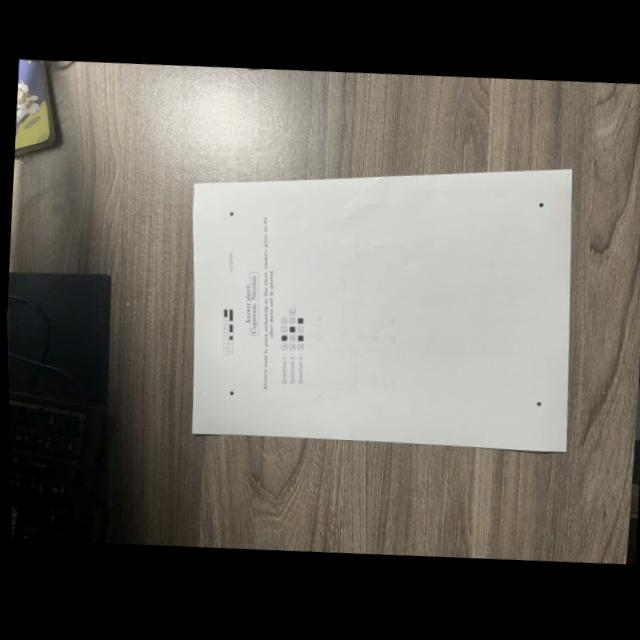Markers: (536, 400, 542, 406), (537, 202, 543, 207), (229, 390, 233, 394), (229, 210, 233, 214)
